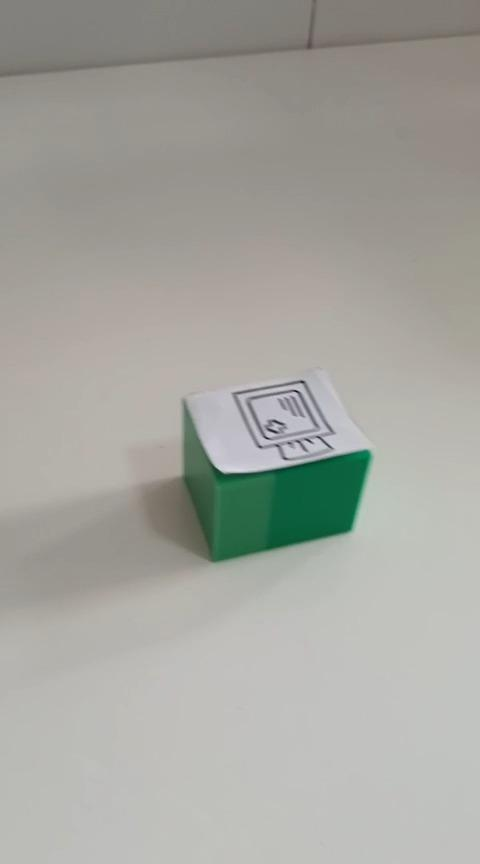Gauze: (179, 365, 374, 562)
